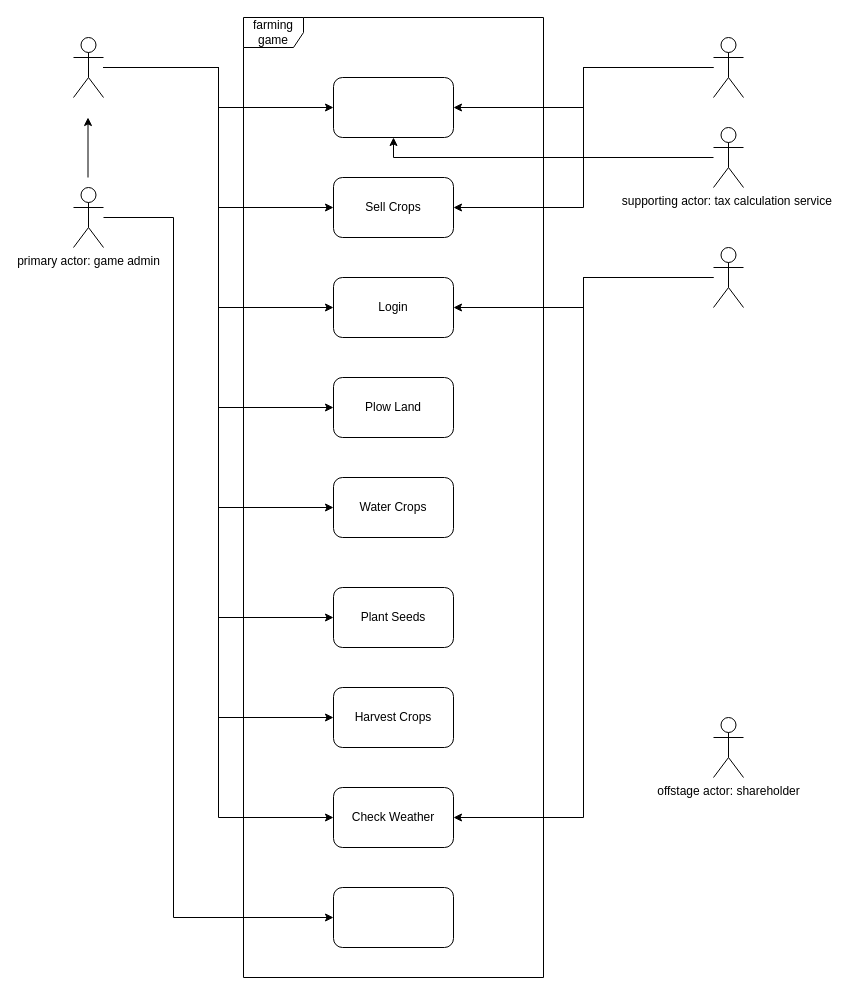
Image size: 857x995. Some labels were removed from this diagram. Each missing label, with the box of its shape:
Add Market Items: (332, 886, 454, 948)
Buy Seeds: (332, 76, 454, 138)
primary actor: player: (72, 36, 104, 98)
supporting actor: price calculation service: (712, 36, 744, 98)
supporting actor: third party database: (712, 246, 744, 308)
